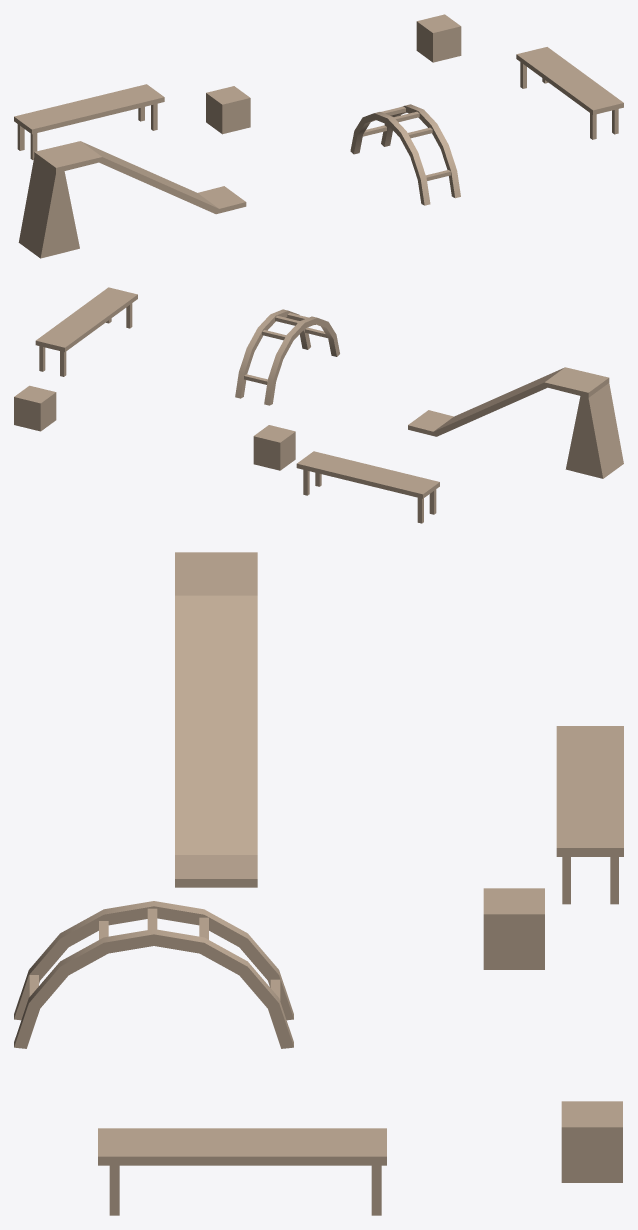
Rendered from 2playground20x10.fbx.
3 views of the same model, one above another, from view 1: azimuth 30°, elevation 25°; view 2: azimuth 150°, elevation 25°; view 3: azimuth 270°, elevation 25° (orthographic). The views are drawn at different scales.
Visible parts, largest first — view 1: pCube381; view 2: pCube381; view 3: pCube381.
Part boxes in pixels (x1=…): pCube381: x1=14, y1=14, x2=623, y2=258; pCube381: x1=14, y1=287, x2=623, y2=523; pCube381: x1=14, y1=552, x2=623, y2=1215.
Bounding box in the file's own units: 19.95 × 2.94 × 9.93.
